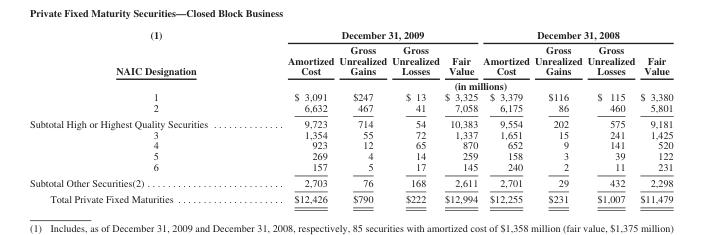table: (28, 28, 672, 204)
table column: (28, 28, 247, 204), (247, 28, 336, 204), (388, 28, 441, 204), (531, 28, 584, 204), (336, 28, 388, 204), (479, 28, 531, 204), (584, 28, 636, 204), (441, 28, 479, 204), (636, 28, 672, 204)
table column header: (28, 28, 672, 91)
table row: (28, 42, 672, 77), (28, 174, 672, 190), (28, 28, 672, 42), (28, 77, 672, 91), (28, 101, 672, 115), (28, 190, 672, 204), (28, 115, 672, 128), (28, 161, 672, 174), (28, 128, 672, 139), (28, 139, 672, 150), (28, 150, 672, 161), (28, 91, 672, 101)
table spanning cell: (28, 28, 247, 91), (247, 77, 672, 91), (247, 28, 479, 42), (479, 28, 672, 42)
